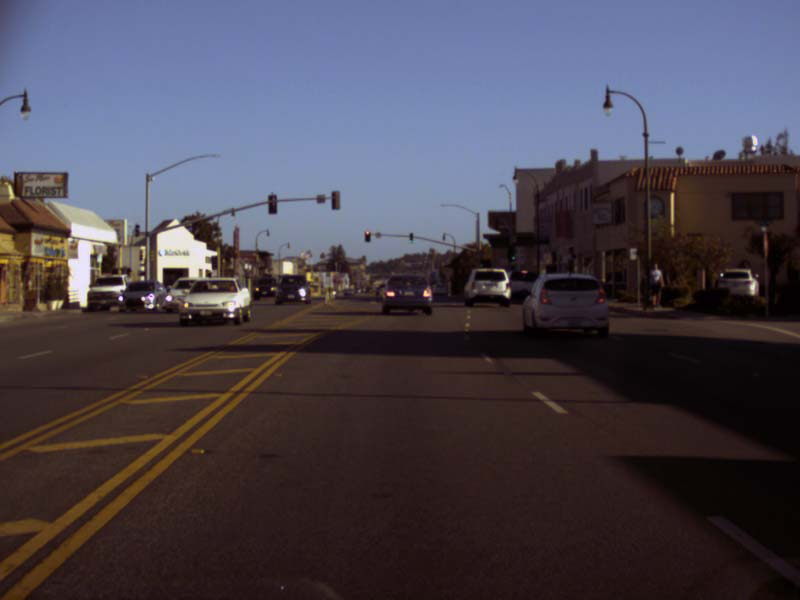Green: (509, 247, 515, 261), (409, 232, 413, 243)
Red: (364, 229, 371, 242)
